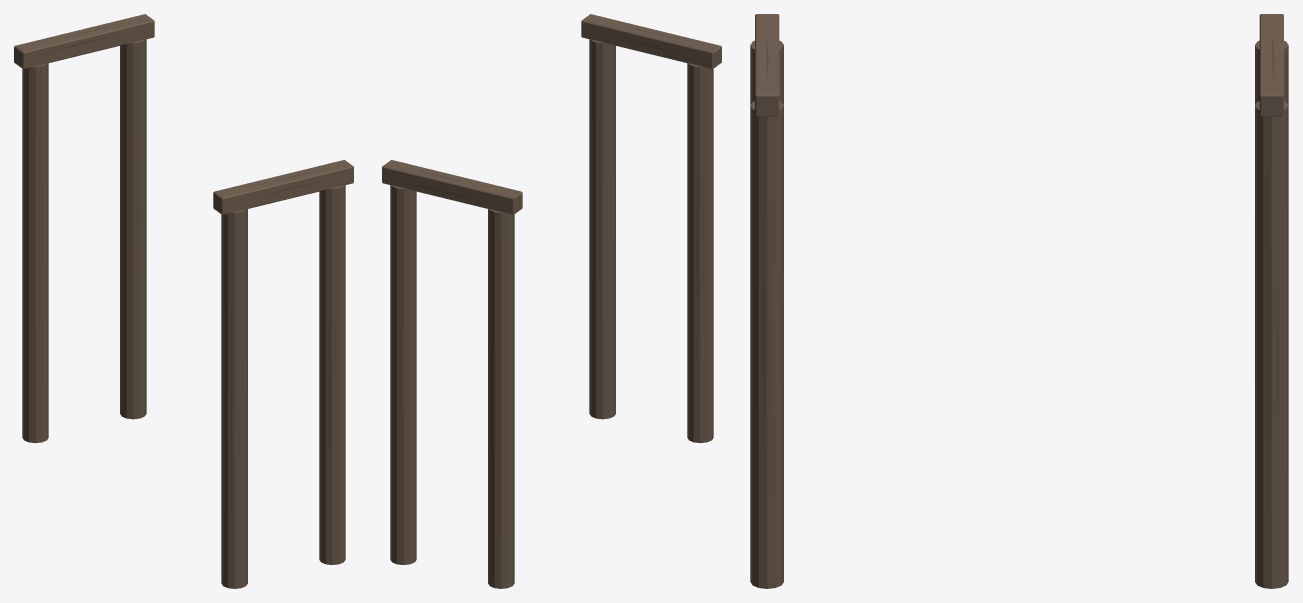
Rendered from finger_piles.glb.
The picture shows the model from 3 angles, left to right: view 1: azimuth 30°, elevation 25°; view 2: azimuth 150°, elevation 25°; view 3: azimuth 270°, elevation 25°; orthographic projection. The views are drawn at different scales.
Parts seen in each view (by area): view 1: finger_piles; view 2: finger_piles; view 3: finger_piles.
Boxes of the visible parts, <box> form: finger_piles: <box>14,14,353,588</box>; finger_piles: <box>382,14,721,588</box>; finger_piles: <box>750,14,1288,588</box>.
Size of the model in its own units: 1.84 by 5.22 by 5.12.
